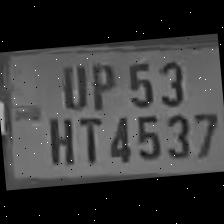3: (153, 55, 186, 107), (161, 108, 193, 160)
4: (102, 110, 134, 166)
5: (120, 55, 157, 108), (131, 108, 163, 162)
7: (188, 107, 220, 161)
H: (41, 110, 77, 167)
P: (85, 57, 120, 110)
T: (72, 111, 104, 165)
U: (55, 58, 90, 111)
